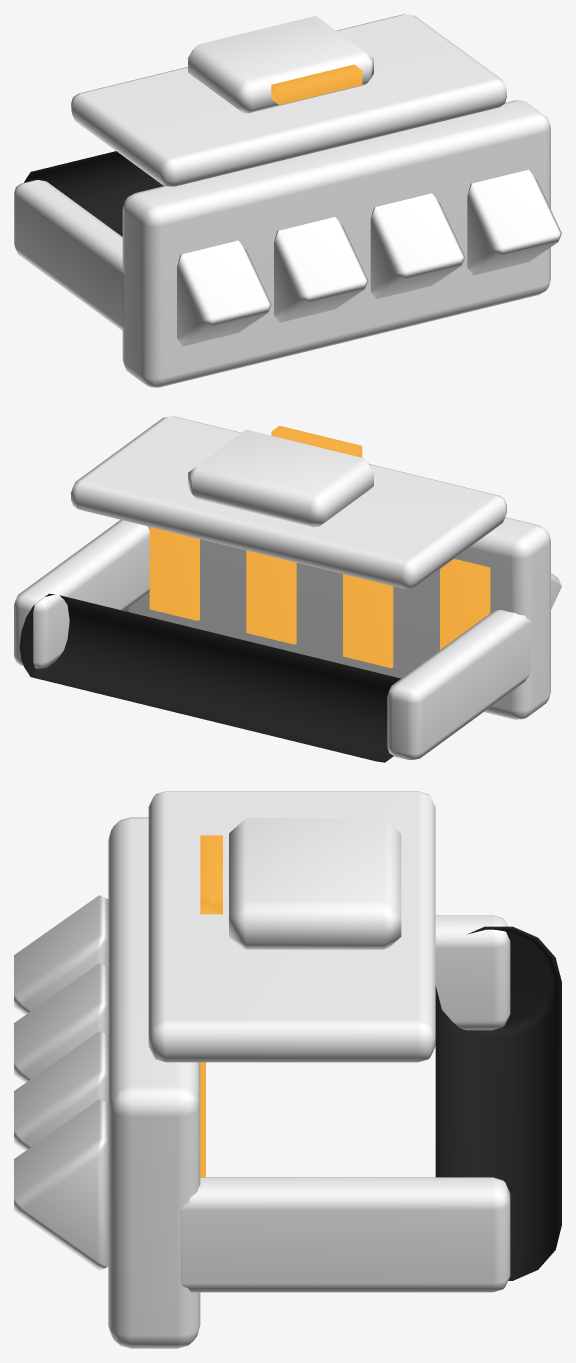
The model's file is knuckles.glb.
The picture shows the model from 3 angles, top to bottom: view 1: azimuth 30°, elevation 25°; view 2: azimuth 150°, elevation 25°; view 3: azimuth 270°, elevation 25°; orthographic projection. The views are drawn at different scales.
Visible parts, largest first — view 1: plate, back_plate, cell, side_link, stud.002, stud.003, stud, stud.001, grip_bar, cell_led; view 2: back_plate, grip_bar, plate, side_link, cell, side_link.001, stud_glow.002, stud_glow.003, stud_glow.001, stud_glow, cell_led; view 3: back_plate, side_link.001, plate, grip_bar, cell, stud.003, side_link, stud, stud.001, stud.002, cell_led.
Boxes of the visible parts, x1,y1,x2,y2 form: plate: [122, 100, 550, 387]; back_plate: [71, 14, 506, 186]; cell: [188, 16, 373, 113]; side_link: [14, 180, 124, 330]; stud.002: [370, 193, 464, 298]; stud.003: [467, 169, 561, 275]; stud: [177, 240, 271, 346]; stud.001: [274, 217, 368, 322]; grip_bar: [24, 151, 164, 236]; cell_led: [271, 64, 362, 104]; back_plate: [71, 416, 506, 588]; grip_bar: [19, 593, 400, 762]; plate: [124, 517, 550, 719]; side_link: [387, 610, 530, 759]; cell: [188, 429, 373, 527]; side_link.001: [14, 519, 149, 668]; stud_glow.002: [246, 550, 296, 644]; stud_glow.003: [149, 527, 199, 620]; stud_glow.001: [343, 574, 393, 668]; stud_glow: [440, 558, 490, 649]; cell_led: [271, 425, 362, 457]; back_plate: [148, 791, 435, 1062]; side_link.001: [180, 1177, 510, 1292]; plate: [108, 817, 200, 1348]; grip_bar: [435, 926, 561, 1280]; cell: [229, 818, 401, 949]; stud.003: [14, 1099, 108, 1270]; side_link: [435, 915, 510, 1030]; stud: [14, 895, 108, 1014]; stud.001: [14, 963, 108, 1082]; stud.002: [14, 1031, 108, 1150]; cell_led: [200, 835, 222, 914].
Bounding box in the file's own units: 0.118 × 0.068 × 0.0954.
